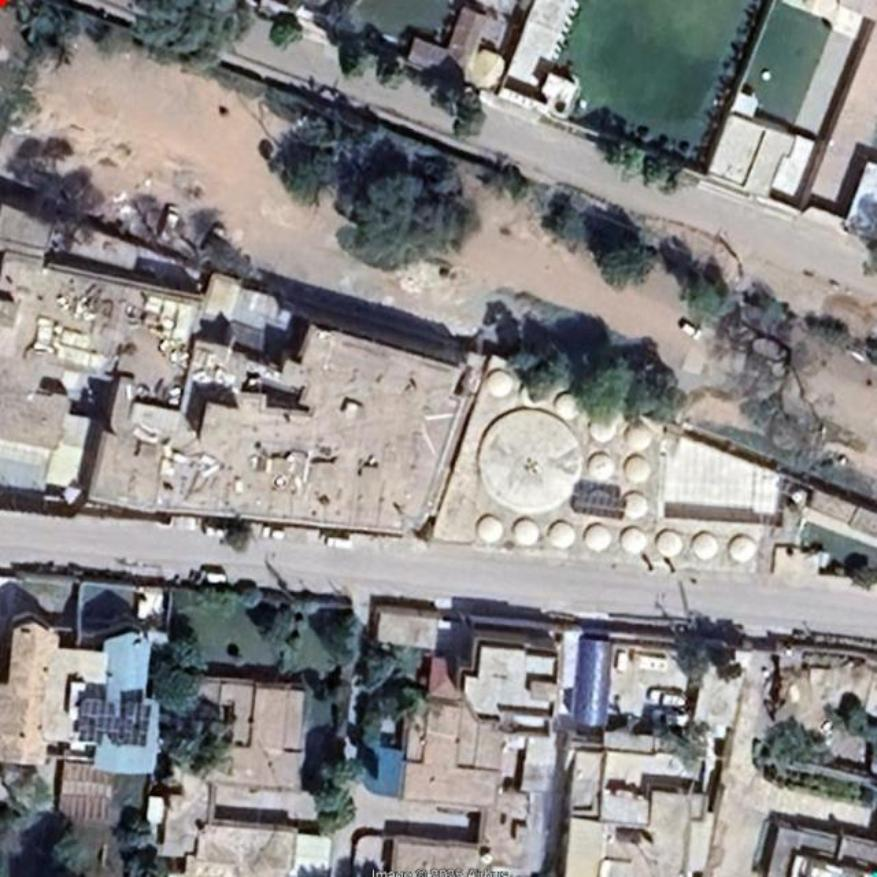Solarpanel: (79, 698, 149, 744), (575, 489, 629, 517)
